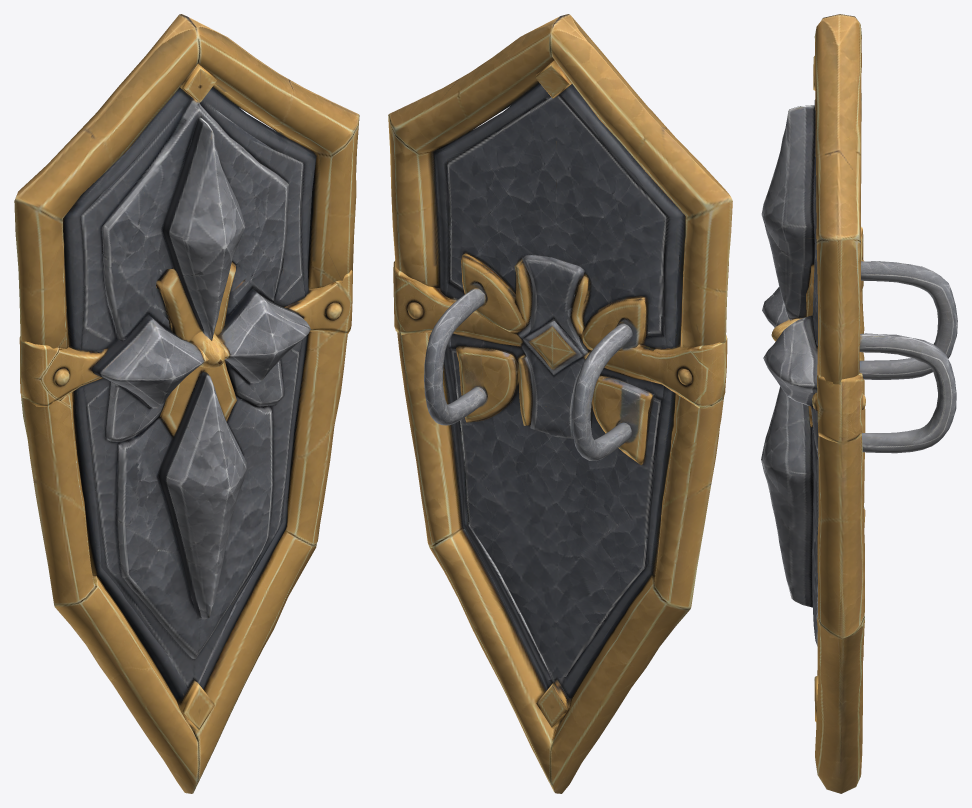
The model's file is aegis_of_the_golden_s.glb.
3 renders of one model, left to right at view 1: azimuth 30°, elevation 25°; view 2: azimuth 150°, elevation 25°; view 3: azimuth 270°, elevation 25°, orthographic.
Bounding box in the file's own units: 0.4648 × 1 × 0.2285.
Materials: 1 (1 with a texture image).
